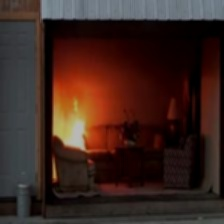fire: (57, 91, 86, 131)
